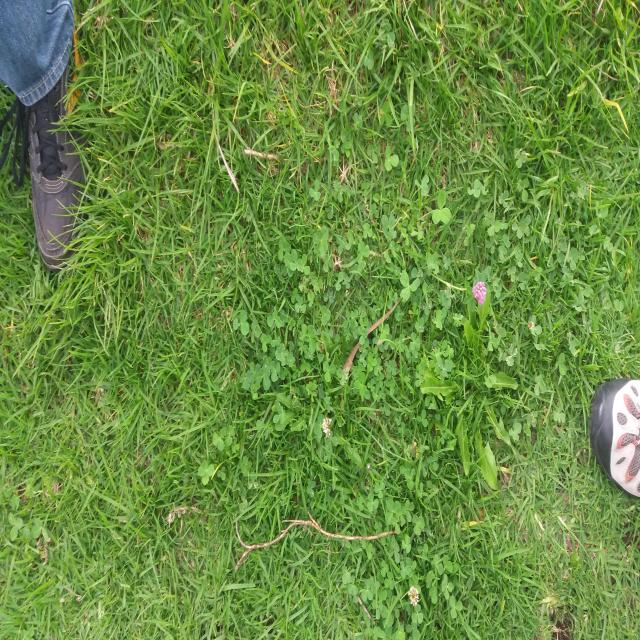Four Leaf Clover: (198, 460, 215, 486), (441, 574, 453, 600), (313, 414, 324, 438), (275, 343, 286, 366), (287, 353, 296, 367)
